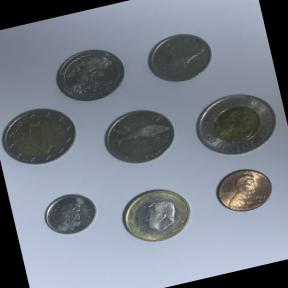coin: (182, 80, 287, 170), (90, 97, 185, 179), (110, 176, 201, 252), (0, 98, 83, 176), (49, 41, 133, 109), (204, 158, 280, 219), (36, 183, 102, 241)
